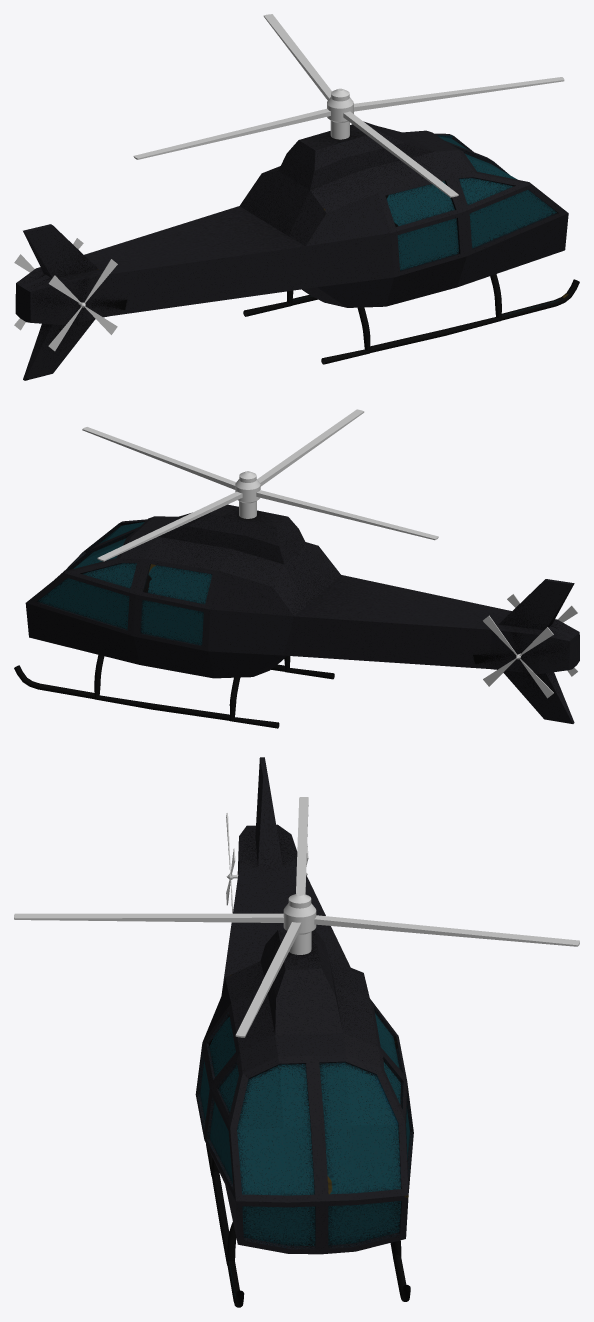
File: anim_000093.obj
3 renders of one model, top to bottom at view 1: azimuth 30°, elevation 25°; view 2: azimuth 150°, elevation 25°; view 3: azimuth 270°, elevation 25°, orthographic. The views are drawn at different scales.
Visible parts, largest first — view 1: Helicopter.007_Cylinder.008, Helicopter.001_Cylinder.001, Helicopter.004_Cylinder.005; view 2: Helicopter.007_Cylinder.008, Helicopter.001_Cylinder.001, Helicopter.003_Cylinder.004; view 3: Helicopter.007_Cylinder.008, Helicopter.001_Cylinder.001.
Part boxes in pixels (bbox=[...]): Helicopter.007_Cylinder.008: bbox=[15, 121, 579, 380]; Helicopter.001_Cylinder.001: bbox=[133, 14, 564, 197]; Helicopter.004_Cylinder.005: bbox=[48, 259, 117, 351]; Helicopter.007_Cylinder.008: bbox=[14, 504, 579, 728]; Helicopter.001_Cylinder.001: bbox=[82, 409, 438, 561]; Helicopter.003_Cylinder.004: bbox=[483, 615, 553, 698]; Helicopter.007_Cylinder.008: bbox=[195, 757, 413, 1307]; Helicopter.001_Cylinder.001: bbox=[14, 797, 579, 1037].
Size of the model in its own units: 7.54 by 3.21 by 5.54.
